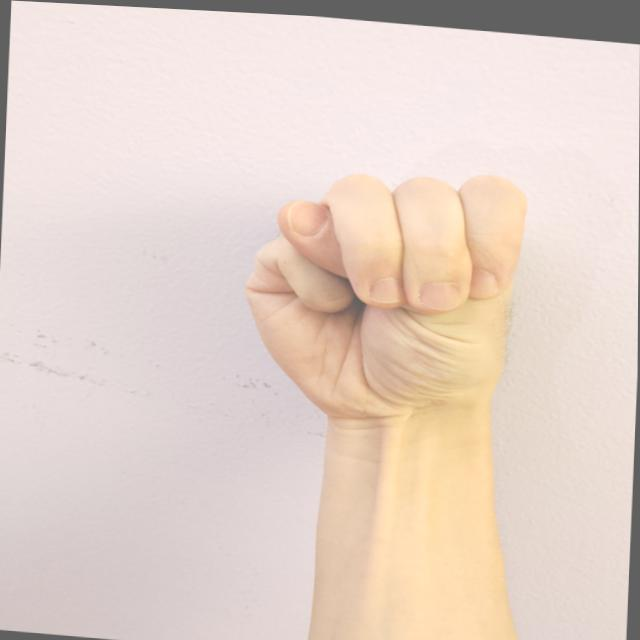M: (228, 135, 545, 440)
